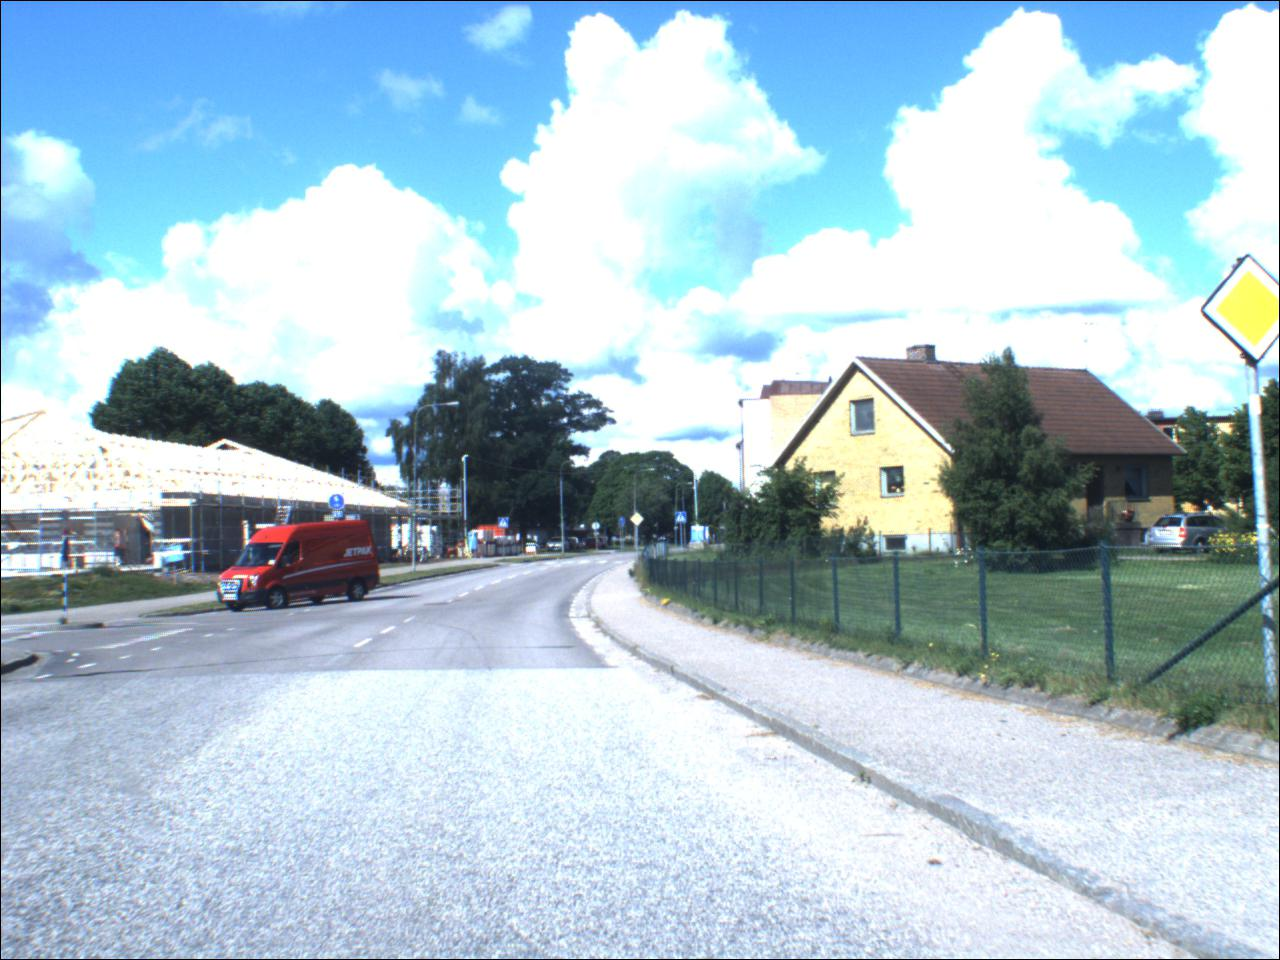PEDESTRIAN_CROSSING: (676, 512, 689, 525), (500, 519, 511, 531)
PRIORITY_ROAD: (1202, 257, 1280, 363), (633, 513, 647, 528)
